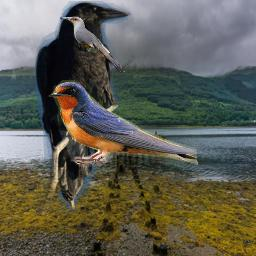Crow: (35, 1, 131, 215)
Cuckoo: (60, 16, 125, 74)
Swallow: (48, 79, 198, 170)
